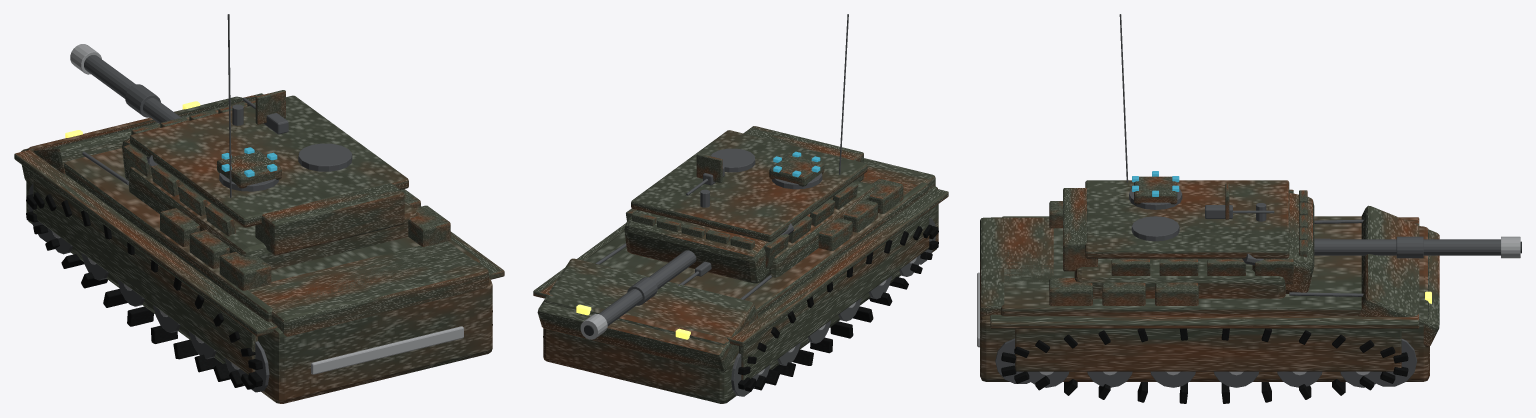
File: tank.glb
3 views of the same model, side by side, from view 1: azimuth 30°, elevation 25°; view 2: azimuth 150°, elevation 25°; view 3: azimuth 270°, elevation 25° (orthographic). The views are drawn at different scales.
Parts seen in each view (by area): view 1: TurretRoof, LowerHull, RearDeck, SideSkirt_-1, UpperDeck, StowageRack, Fender_-1, TurretBasket, Glacis, TowHooks, Barrel.003, Stowage_-1_0 (+16 smaller); view 2: TurretRoof, Glacis, LowerHull, SideSkirt_-1, UpperDeck, TurretFront, Fender_-1, TurretBasket, Barrel.003, StowageRack, RearDeck, CommandersCupola (+12 smaller); view 3: SideSkirt_1, TurretRoof, UpperDeck, Glacis, Fender_1, RearDeck, LowerHull, TurretBasket, Barrel.003, StowageRack, TurretFront, Stowage_1_0 (+15 smaller).
Part boxes in pixels (<box>): TurretRoof: <box>130,95,408,227</box>; LowerHull: <box>26,96,492,403</box>; RearDeck: <box>248,241,488,336</box>; SideSkirt_-1: <box>33,173,257,374</box>; UpperDeck: <box>64,148,480,321</box>; StowageRack: <box>255,183,404,255</box>; Fender_-1: <box>14,149,277,336</box>; TurretBasket: <box>129,167,417,270</box>; Glacis: <box>21,97,255,181</box>; TowHooks: <box>311,326,463,374</box>; Barrel.003: <box>84,55,181,123</box>; Stowage_-1_0: <box>219,252,271,290</box>; TurretRoof: <box>631,130,867,241</box>; Glacis: <box>537,258,758,372</box>; LowerHull: <box>543,186,938,403</box>; SideSkirt_-1: <box>739,211,929,380</box>; UpperDeck: <box>583,173,928,316</box>; TurretFront: <box>624,210,769,283</box>; Fender_-1: <box>723,187,948,346</box>; TurretBasket: <box>767,181,875,277</box>; Barrel.003: <box>599,250,696,325</box>; StowageRack: <box>743,126,863,182</box>; RearDeck: <box>860,158,935,195</box>; CommandersCupola: <box>769,154,824,186</box>; SideSkirt_1: <box>1015,328,1401,371</box>; TurretRoof: <box>1085,180,1289,258</box>; UpperDeck: <box>1001,216,1361,316</box>; Glacis: <box>1358,205,1439,347</box>; Fender_1: <box>990,314,1419,328</box>; RearDeck: <box>980,217,1053,318</box>; LowerHull: <box>980,226,1429,381</box>; TurretBasket: <box>1074,258,1285,298</box>; Barrel.003: <box>1314,239,1500,255</box>; StowageRack: <box>1063,188,1097,271</box>; TurretFront: <box>1252,193,1314,293</box>; Stowage_1_0: <box>1049,278,1092,305</box>.
Bounding box in the file's own units: 3.6 × 4.79 × 7.75.
Materials: 8 (3 with a texture image).
